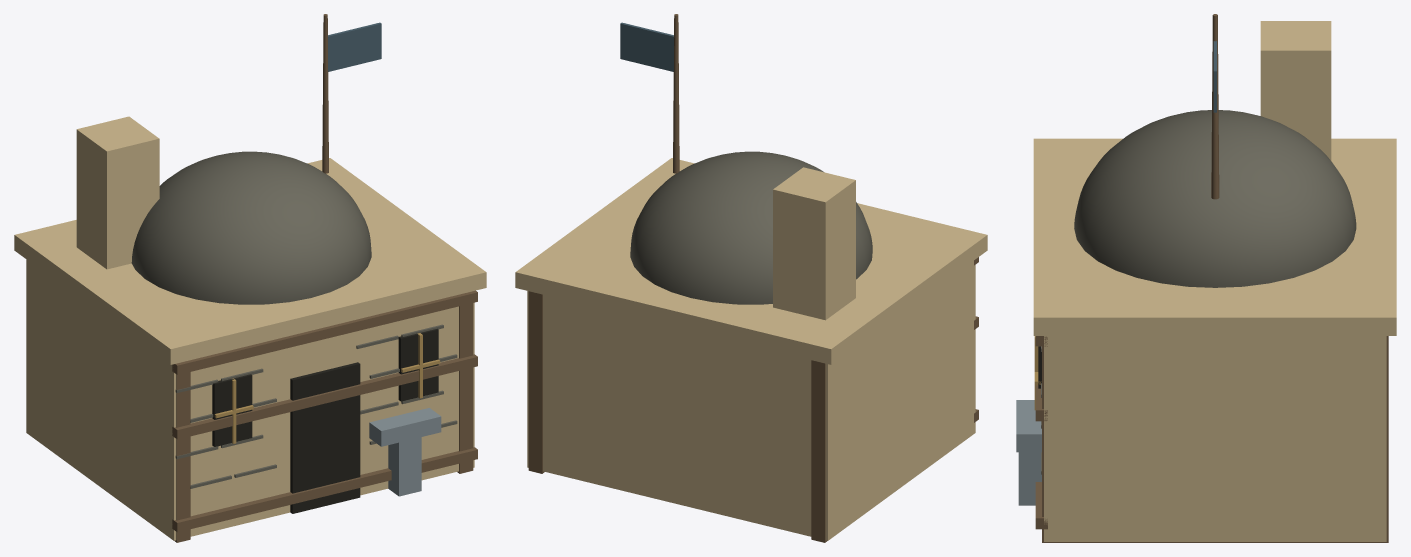
Rendered from b-smithy-ayyubid.glb.
3 views of the same model, side by side, from view 1: azimuth 30°, elevation 25°; view 2: azimuth 150°, elevation 25°; view 3: azimuth 270°, elevation 25° (orthographic). The views are drawn at different scales.
Parts seen in each view (by area): view 1: Structure; view 2: Structure; view 3: Structure.
Part boxes in pixels (<box>): Structure: <box>14,14,486,542</box>; Structure: <box>515,14,987,542</box>; Structure: <box>1016,14,1396,542</box>.
Bounding box in the file's own units: 4.2 × 5.33 × 3.77.
